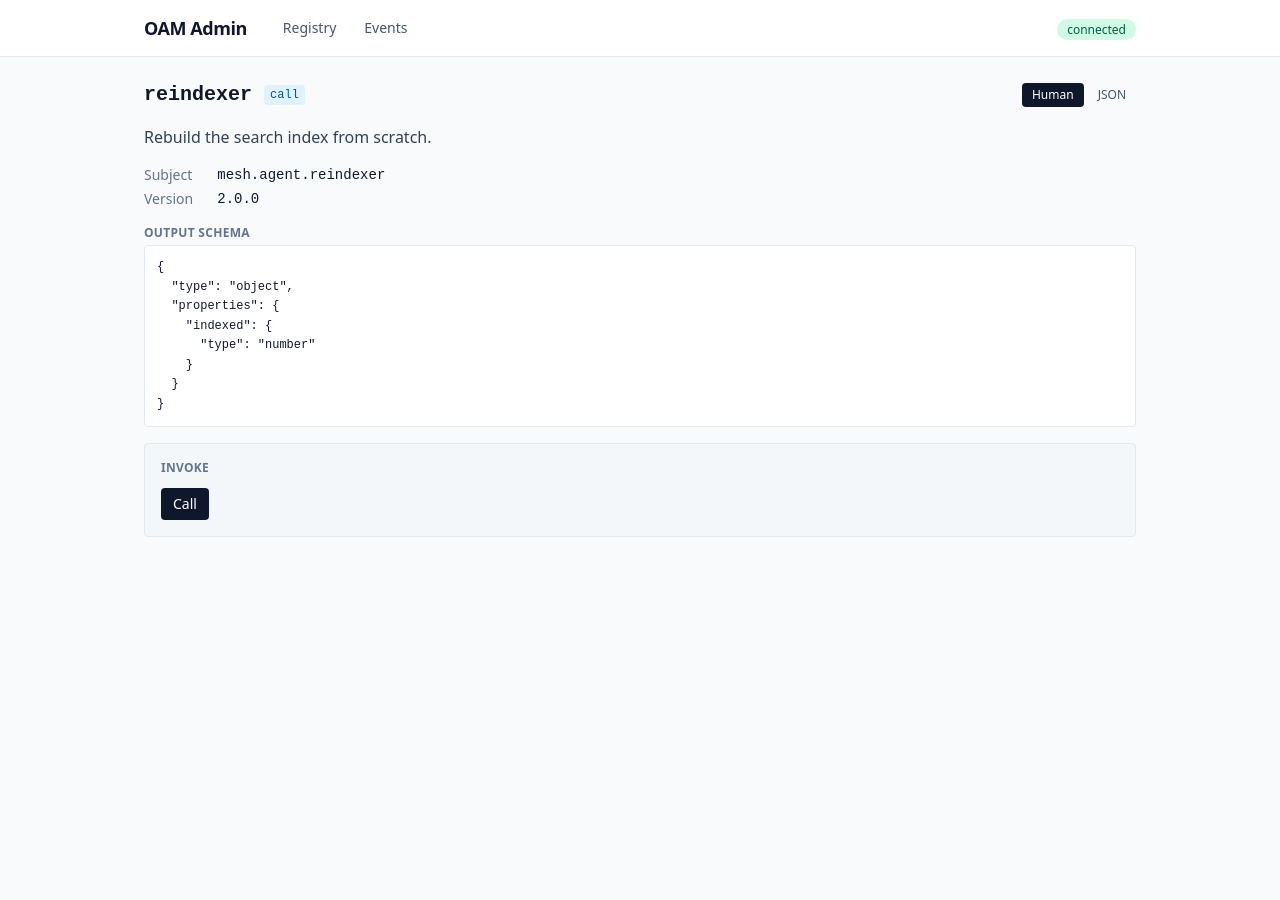
Test: invocation sandbox › invokes a no-input trigger agent via a bare call button
This screenshot has width=1280, height=900.
Step 1. Click the button "Call" → [185, 504], box 161,488 -> 209,520
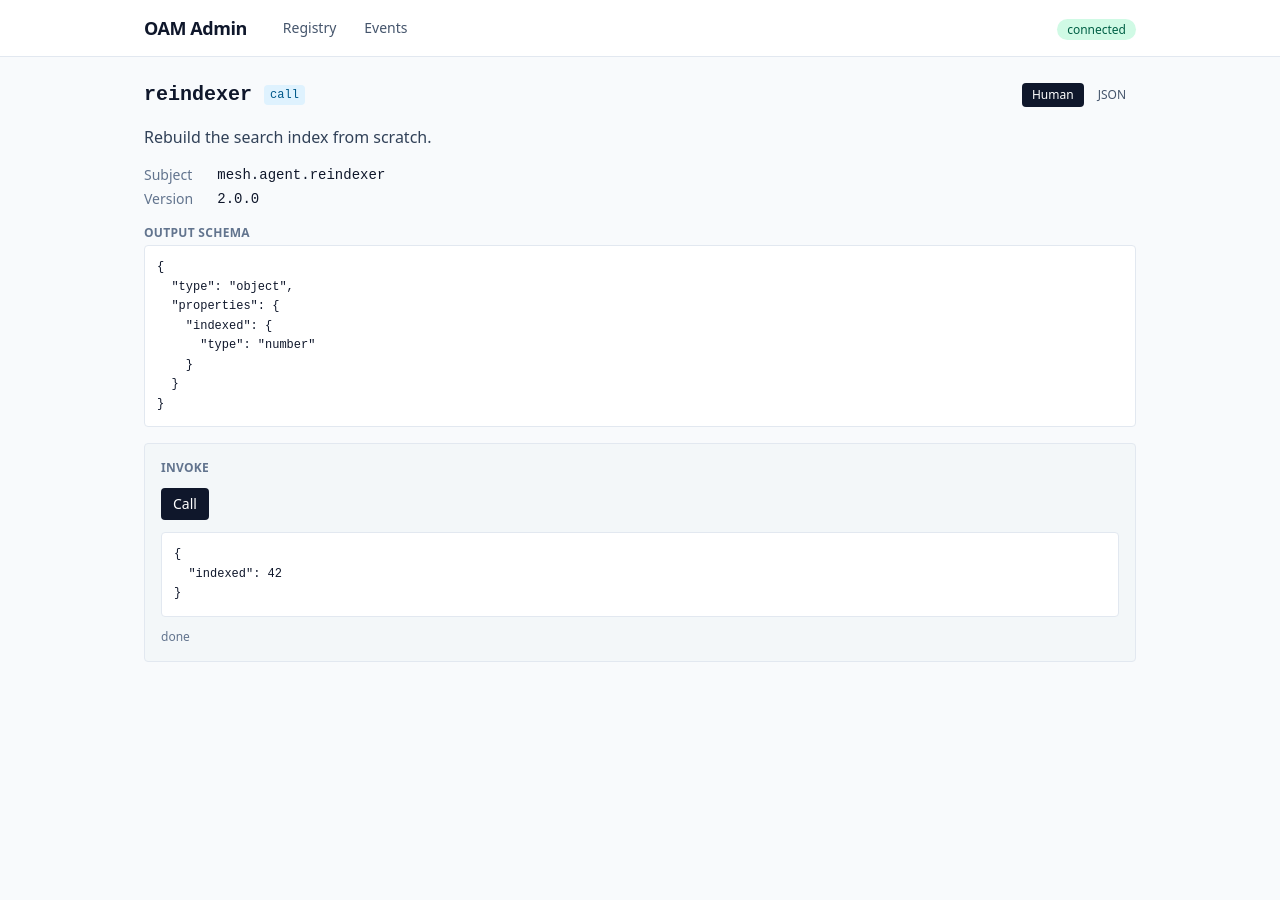
expect the heading "reindexer" is shown: met, box 144,81 -> 252,109
expect the text "{ \"indexed\": 42 }" is shown: met, box 161,532 -> 1119,616
